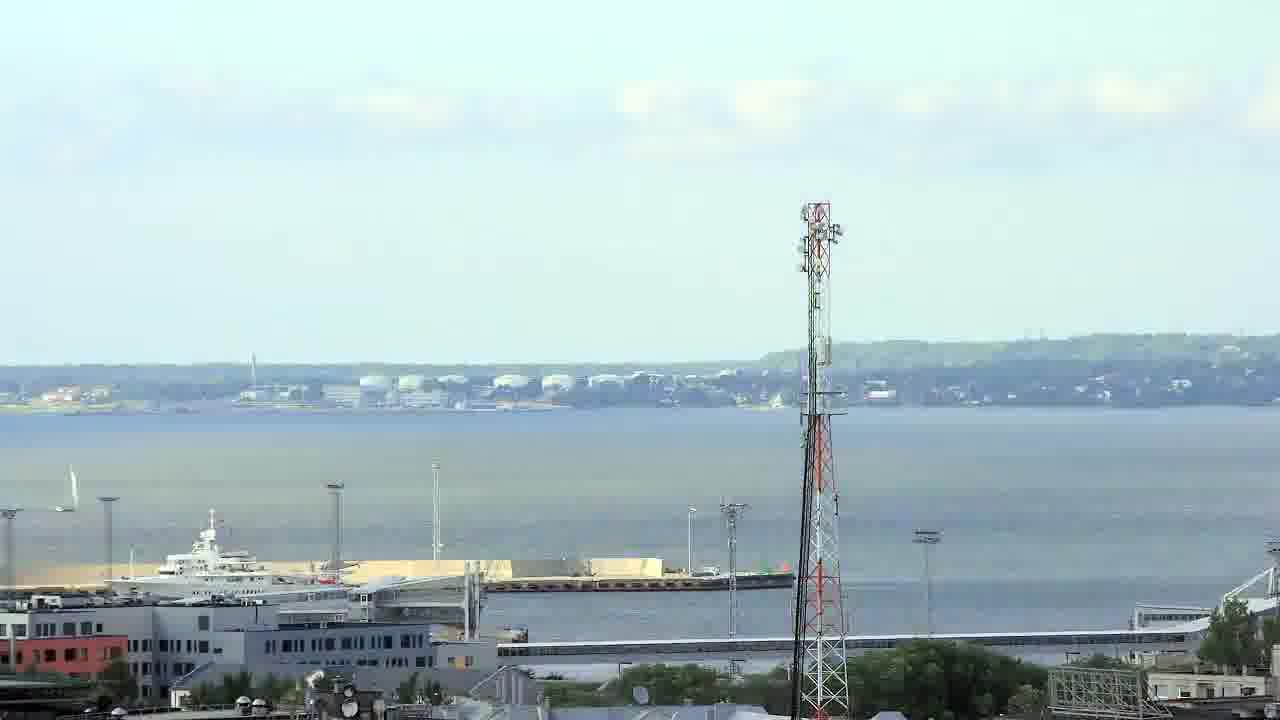type-2: (49, 465, 97, 521)
type-3: (84, 515, 355, 603)
